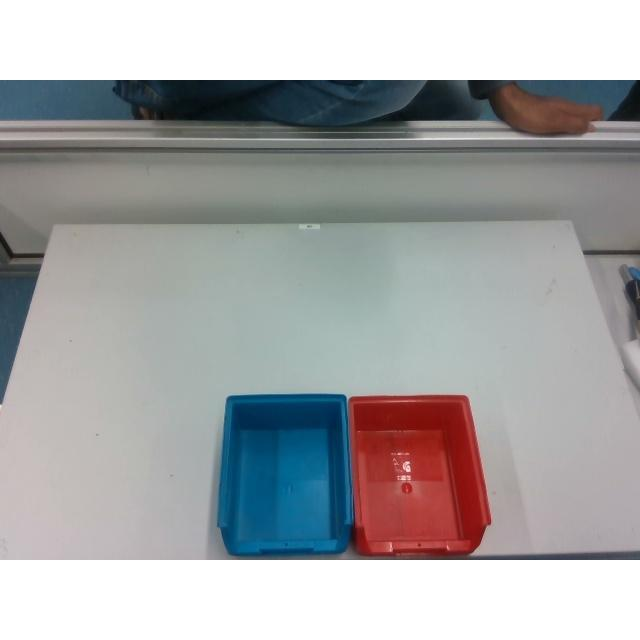container_box_blue: (218, 394, 352, 554)
container_box_red: (350, 394, 490, 554)
